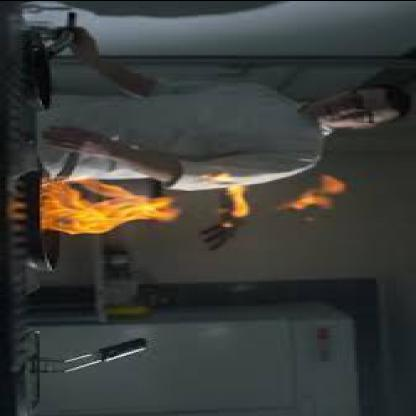Fire: (44, 179, 172, 233)
